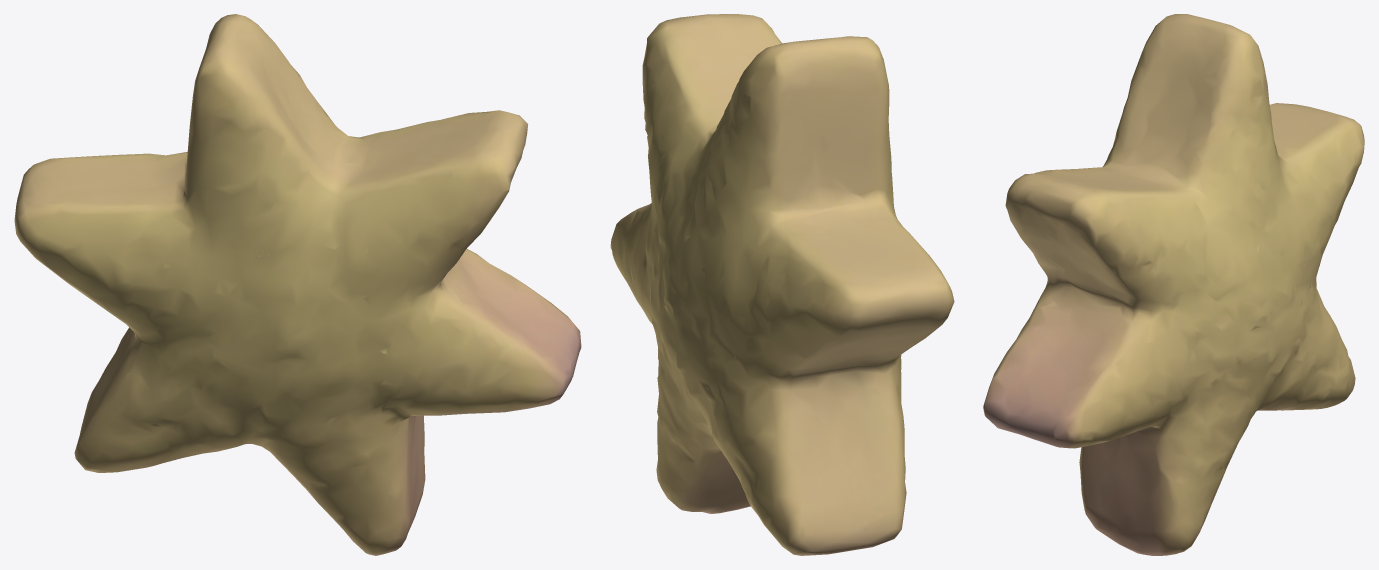
Rendered from star.glb.
The picture shows the model from 3 angles, left to right: view 1: azimuth 30°, elevation 25°; view 2: azimuth 150°, elevation 25°; view 3: azimuth 270°, elevation 25°; orthographic projection. The views are drawn at different scales.
Visible parts, largest first — view 1: tripo_node_9970db45-5ecb-45cb-afa9-6f21211f43ca; view 2: tripo_node_9970db45-5ecb-45cb-afa9-6f21211f43ca; view 3: tripo_node_9970db45-5ecb-45cb-afa9-6f21211f43ca.
Boxes of the visible parts, x1=… form: tripo_node_9970db45-5ecb-45cb-afa9-6f21211f43ca: x1=14, y1=14, x2=581, y2=555; tripo_node_9970db45-5ecb-45cb-afa9-6f21211f43ca: x1=610, y1=14, x2=954, y2=555; tripo_node_9970db45-5ecb-45cb-afa9-6f21211f43ca: x1=983, y1=14, x2=1364, y2=555.
Size of the model in its own units: 0.9023 by 1 by 0.7276.
Materials: 1 (1 with a texture image).
